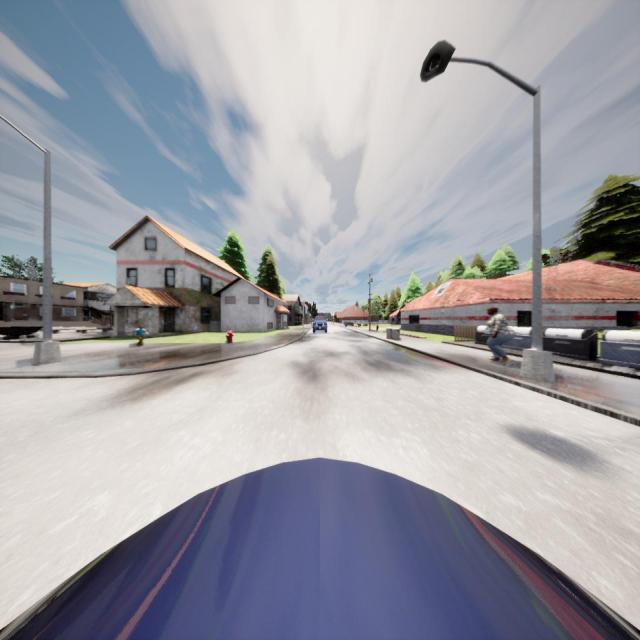Pedestrian: (484, 307, 514, 363), (136, 324, 145, 346)
Vehicle: (0, 460, 640, 640), (312, 314, 328, 332)
